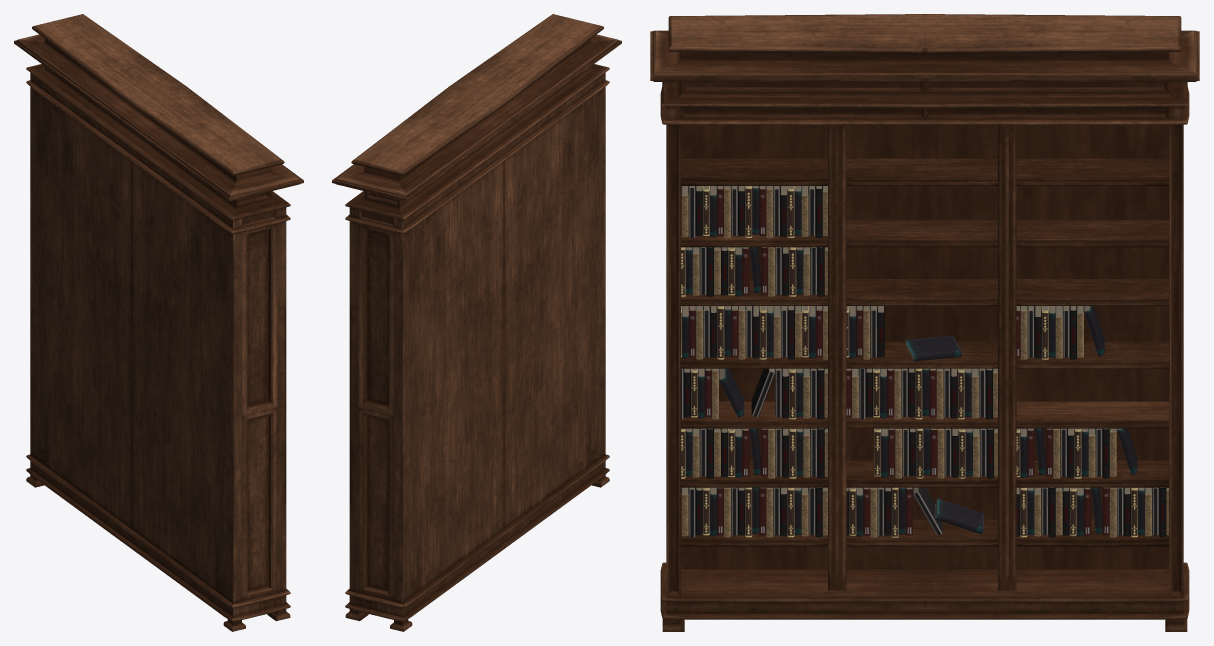
File: dc-shelf.glb
3 views of the same model, side by side, from view 1: azimuth 30°, elevation 25°; view 2: azimuth 150°, elevation 25°; view 3: azimuth 270°, elevation 25° (orthographic). The views are drawn at different scales.
Visible parts, largest first — view 1: shelf; view 2: shelf; view 3: shelf, book.
Boxes of the visible parts, bbox=[...] form: shelf: bbox=[14, 14, 303, 631]; shelf: bbox=[332, 14, 621, 631]; shelf: bbox=[650, 14, 1199, 631]; book: bbox=[681, 186, 1168, 537].
Size of the model in its own units: 0.5692 by 3.29 by 2.81.
Materials: 2 (2 with a texture image).
